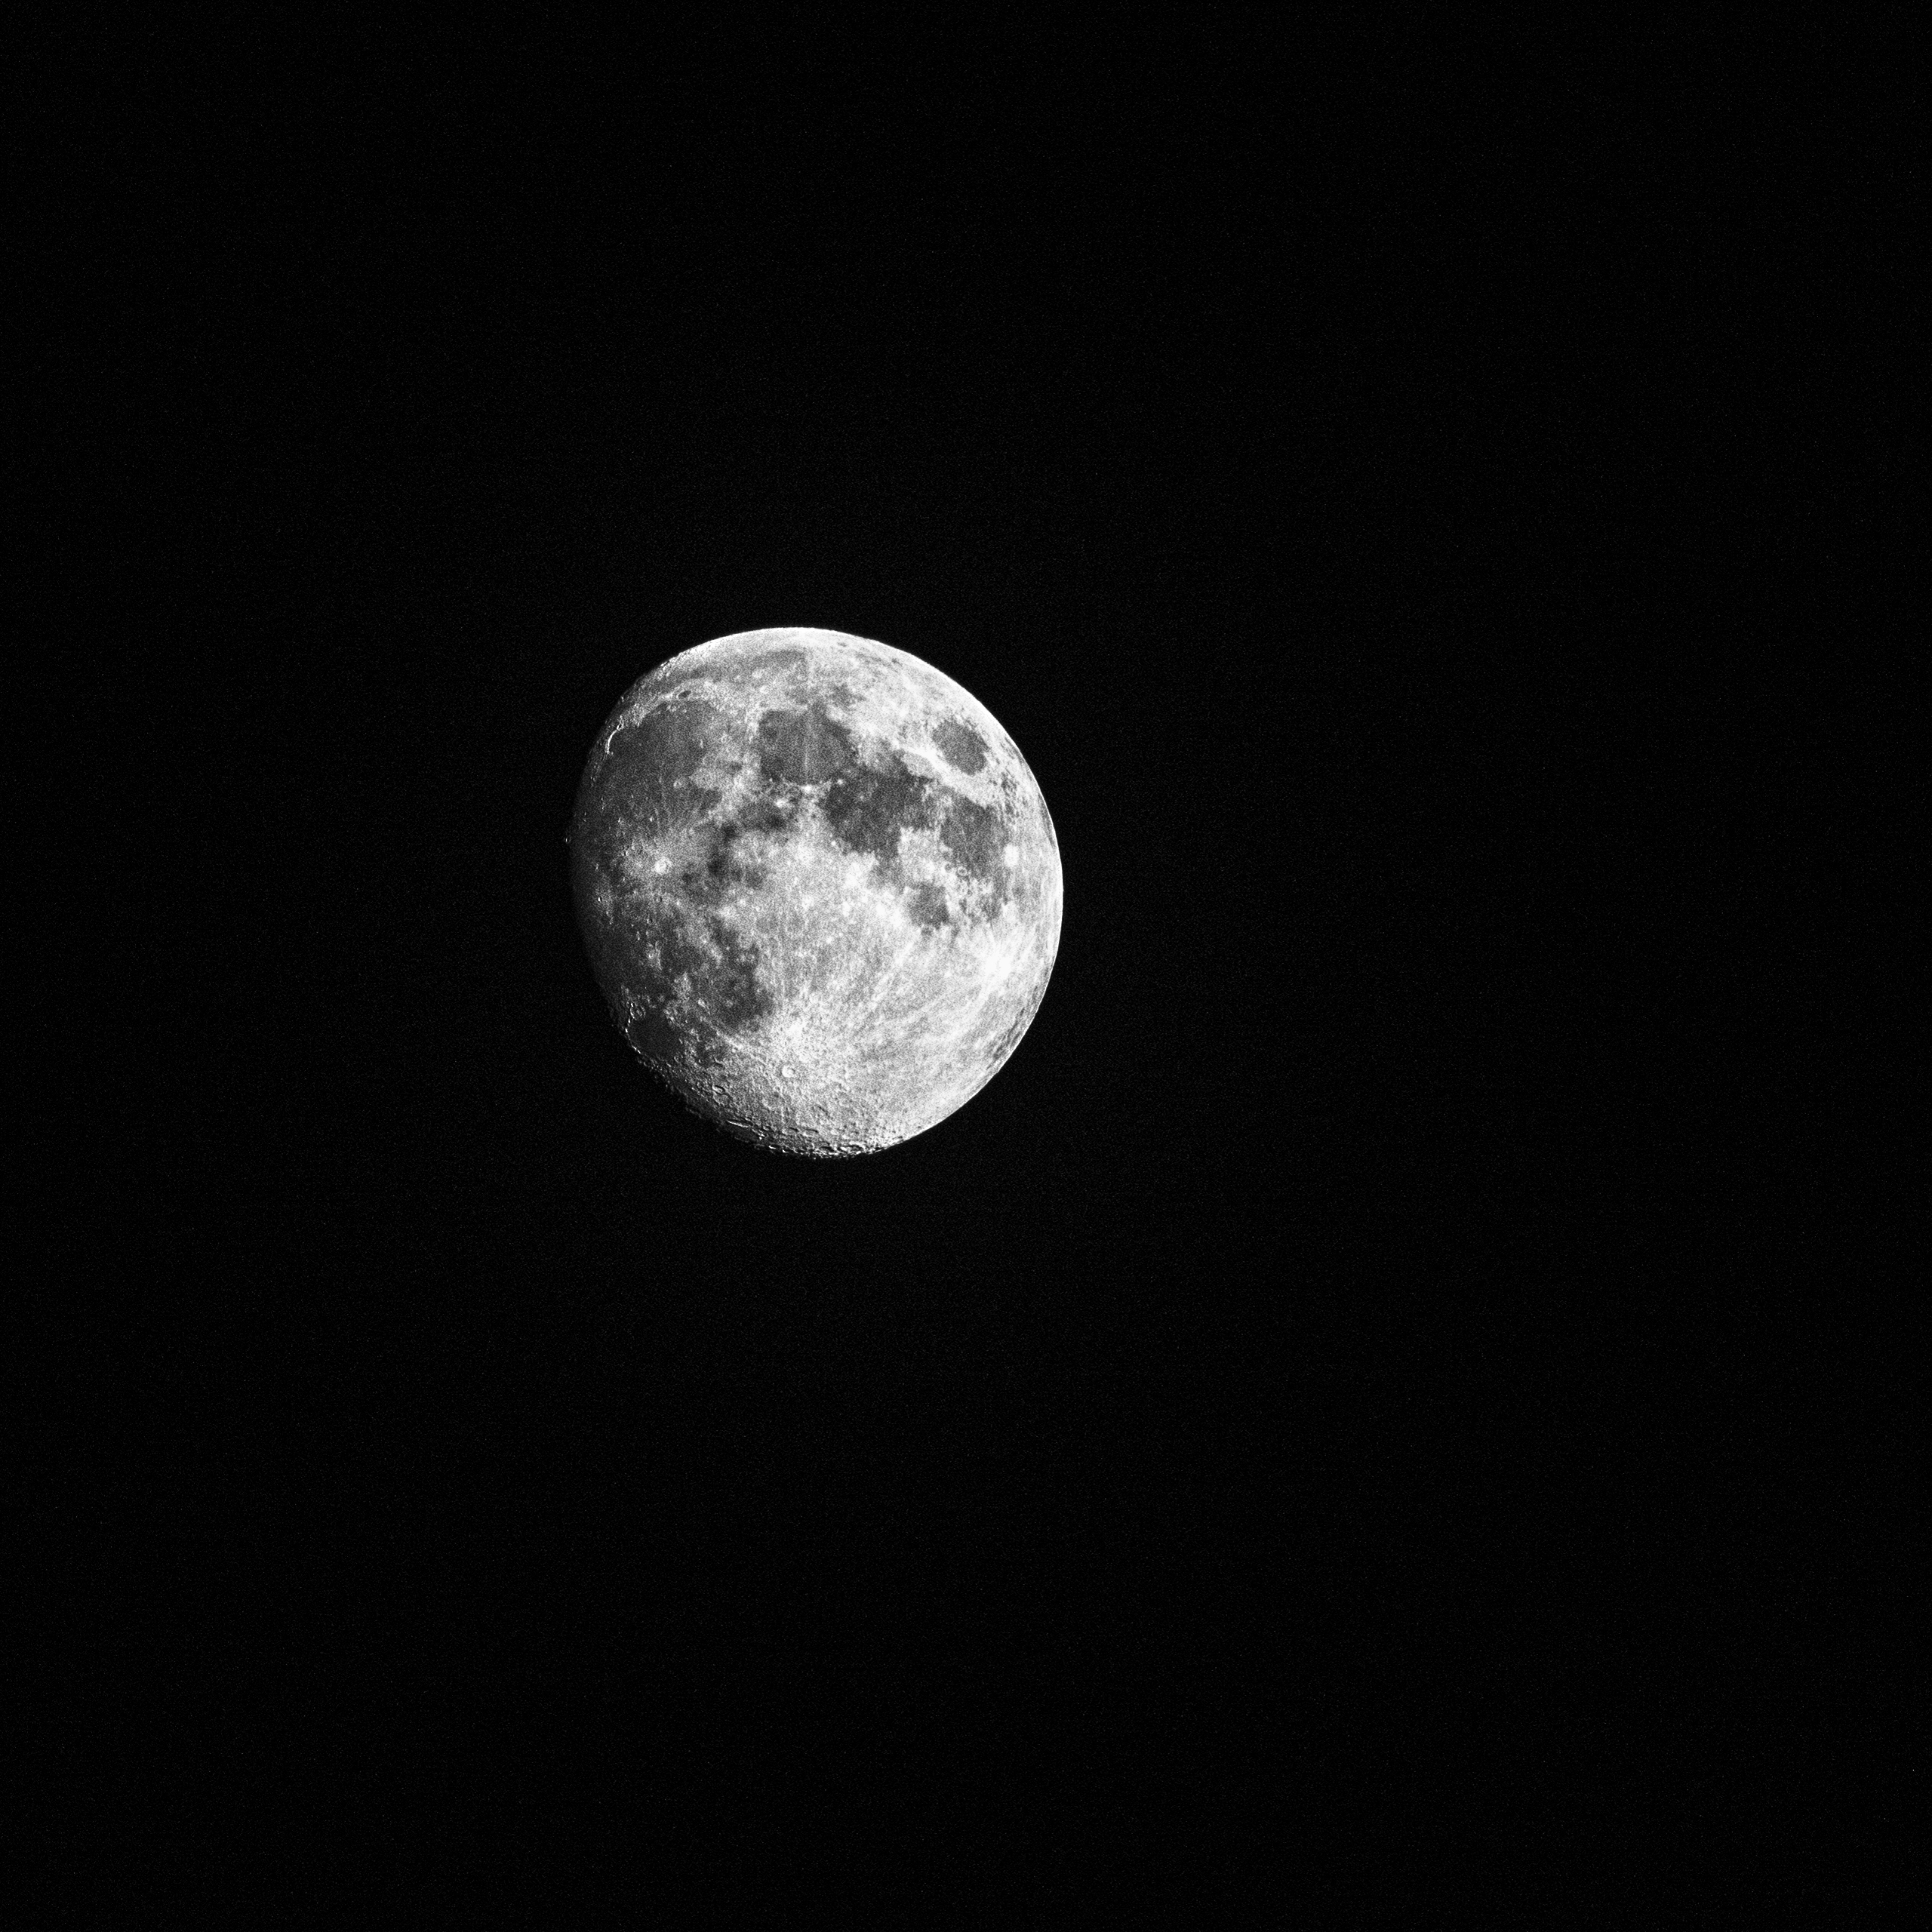crater: (745, 1031, 846, 1102), (966, 916, 1030, 1012), (626, 826, 699, 893), (755, 787, 796, 812)
